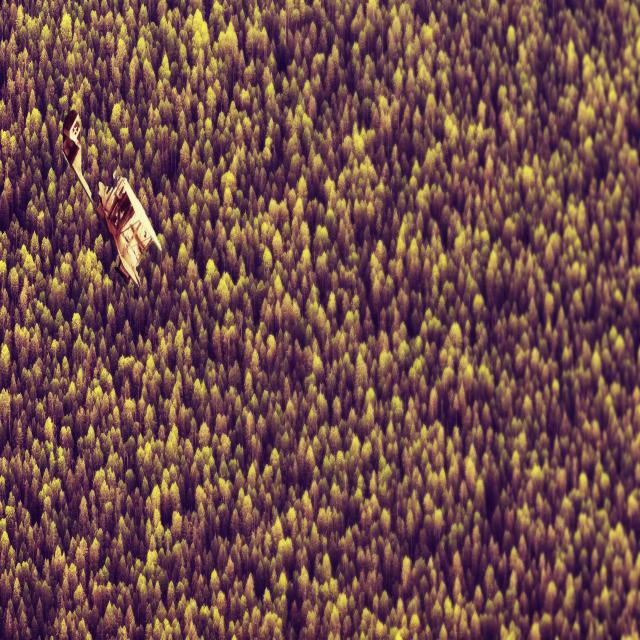airplane: (60, 109, 162, 288)
